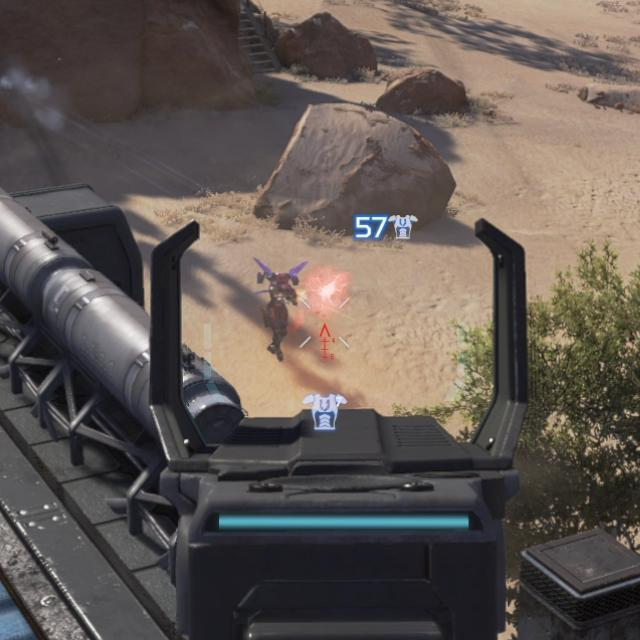avatar: (254, 266, 300, 363)
